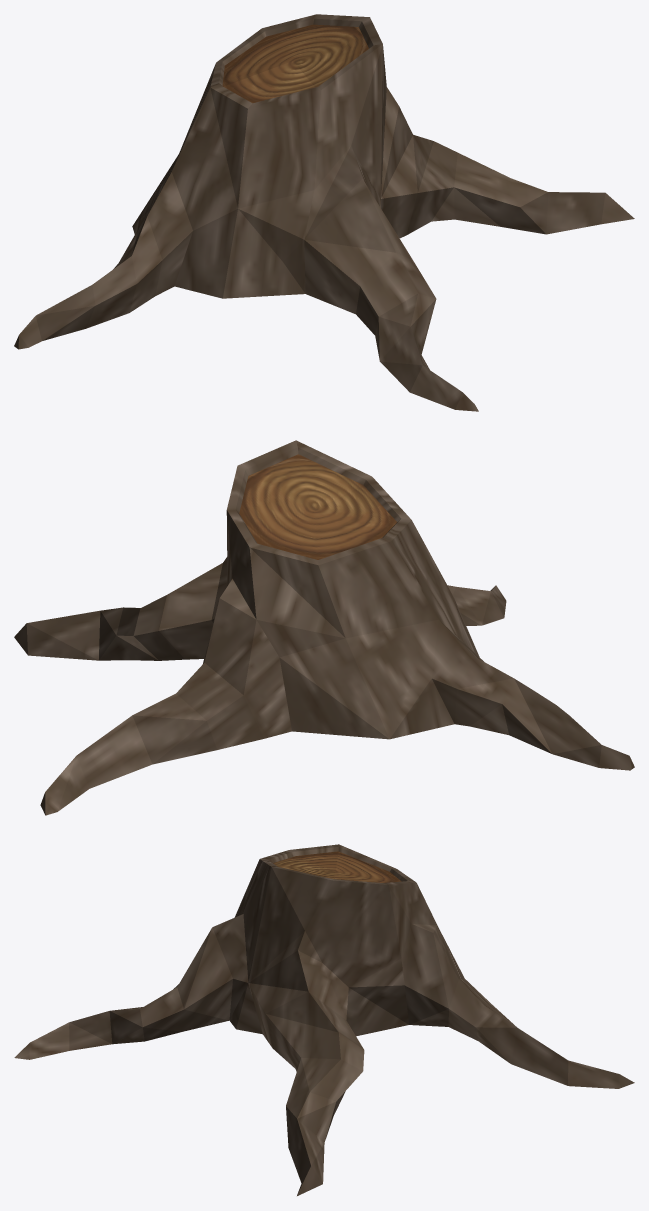
File: muzhuang_02.FBX
3 renders of one model, top to bottom at view 1: azimuth 30°, elevation 25°; view 2: azimuth 150°, elevation 25°; view 3: azimuth 270°, elevation 25°, orthographic. The views are drawn at different scales.
Parts seen in each view (by area): view 1: Object019; view 2: Object019; view 3: Object019.
Boxes of the visible parts, box(x1,y1,x2,y2) form: Object019: box(14, 14, 634, 411); Object019: box(14, 440, 634, 815); Object019: box(14, 844, 634, 1195).
Bounding box in the file's own units: 334 × 129 × 336.
